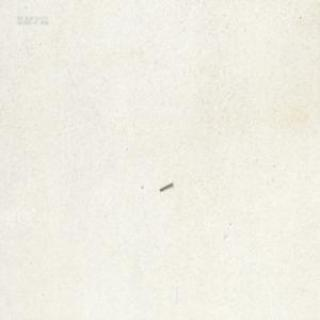Bolttrack_idkeyframe: (158, 180, 172, 191)
